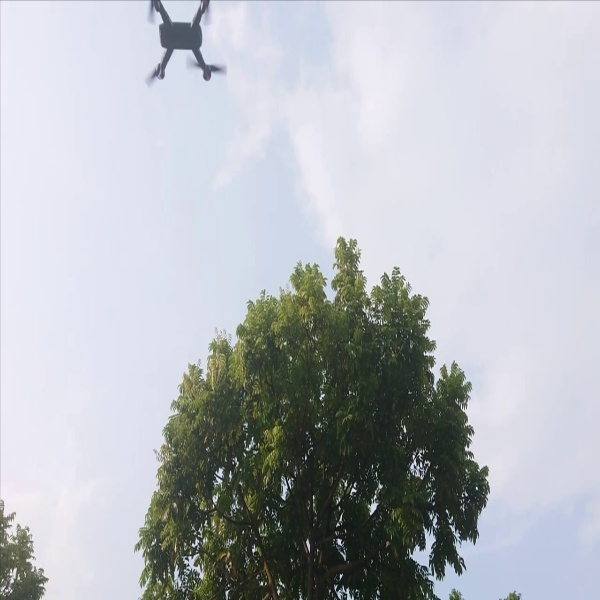drone: (126, 1, 238, 96)
